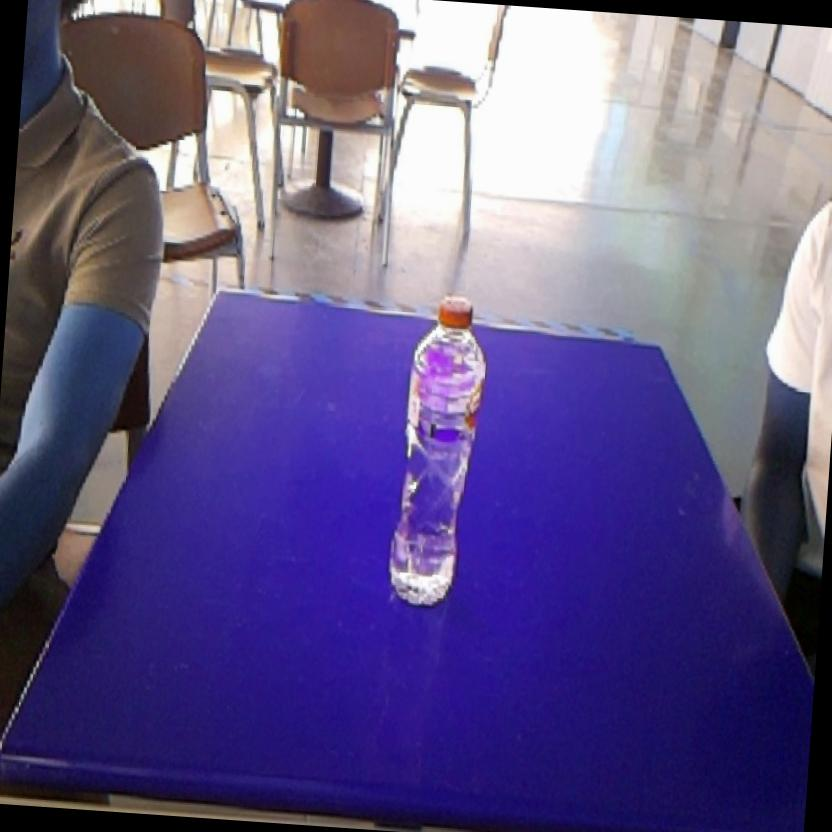good: (378, 284, 496, 622)
